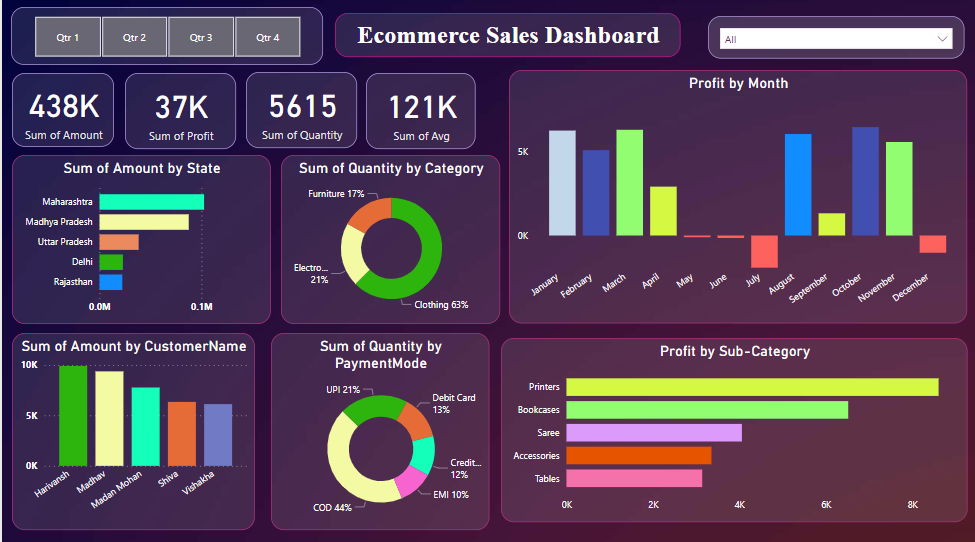

Layout of this report page (visuals, bound fields, positions):
{"tool":"powerbi","page":{"name":"Ecommerce Sales Dashboard","canvas":[1280,720],"ordinal":0},"visuals":[{"type":"textbox","box":[438,20,454,58],"z":0},{"type":"columnChart","title":" Profit by Month","fields":{"Category":["Orders.Order Date.Variation.Date Hierarchy.Month"],"Y":["Details.Profit"]},"box":[666.7,95,601.7,333.3],"z":1000},{"type":"barChart","title":"Profit by Sub-Category","fields":{"Category":["Details.Sub-Category"],"Y":["Details.Profit"]},"box":[655,446.7,613.3,241.7],"z":2000},{"type":"donutChart","fields":{"Category":["Details.Category"],"Y":["Details.Quantity"]},"box":[366.7,206.7,288.3,221.7],"z":3000},{"type":"donutChart","fields":{"Y":["Details.Quantity"],"Category":["Details.PaymentMode"]},"box":[352.9,440,287.1,258.6],"z":4000},{"type":"card","fields":{"Values":["Details.Amount"]},"box":[12.9,98.6,134.3,97.1],"z":5000},{"type":"card","fields":{"Values":["Details.Profit"]},"box":[161.4,98.6,145.7,100],"z":6000},{"type":"card","fields":{"Values":["Details.Quantity"]},"box":[320,97.1,145.7,100],"z":7000},{"type":"card","fields":{"Values":["Details.Avg"]},"box":[478.6,98.6,144.3,100],"z":8000},{"type":"barChart","fields":{"Category":["Orders.State"],"Y":["Details.Amount"]},"box":[13.3,206.7,340,221.7],"z":9000},{"type":"columnChart","fields":{"Y":["Details.Amount"],"Category":["Orders.CustomerName"]},"box":[12.9,440,318.6,258.6],"z":10000},{"type":"slicer","fields":{"Values":["Orders.Order Date.Variation.Date Hierarchy.Quarter"]},"box":[12,12,410,76],"z":11000},{"type":"slicer","fields":{"Values":["Orders.State"]},"box":[928,23,337,56],"z":11001}]}

Visuals, with their boxes in screenshot pixels (x1, y1, x2, y2), scaled from the page's 1280x720 canvas onto the 975x542 screenshot:
textbox: {"x1": 334, "y1": 15, "x2": 679, "y2": 59}
" Profit by Month" columnChart: {"x1": 508, "y1": 72, "x2": 966, "y2": 322}
"Profit by Sub-Category" barChart: {"x1": 499, "y1": 336, "x2": 966, "y2": 518}
donutChart - Details.Category x Details.Quantity: {"x1": 279, "y1": 156, "x2": 499, "y2": 322}
donutChart - Details.Quantity x Details.PaymentMode: {"x1": 269, "y1": 331, "x2": 488, "y2": 526}
card - Details.Amount: {"x1": 10, "y1": 74, "x2": 112, "y2": 147}
card - Details.Profit: {"x1": 123, "y1": 74, "x2": 234, "y2": 150}
card - Details.Quantity: {"x1": 244, "y1": 73, "x2": 355, "y2": 148}
card - Details.Avg: {"x1": 365, "y1": 74, "x2": 474, "y2": 150}
barChart - Orders.State x Details.Amount: {"x1": 10, "y1": 156, "x2": 269, "y2": 322}
columnChart - Details.Amount x Orders.CustomerName: {"x1": 10, "y1": 331, "x2": 253, "y2": 526}
slicer - Orders.Order Date.Variation.Date Hierarchy.Quarter: {"x1": 9, "y1": 9, "x2": 321, "y2": 66}
slicer - Orders.State: {"x1": 707, "y1": 17, "x2": 964, "y2": 59}
